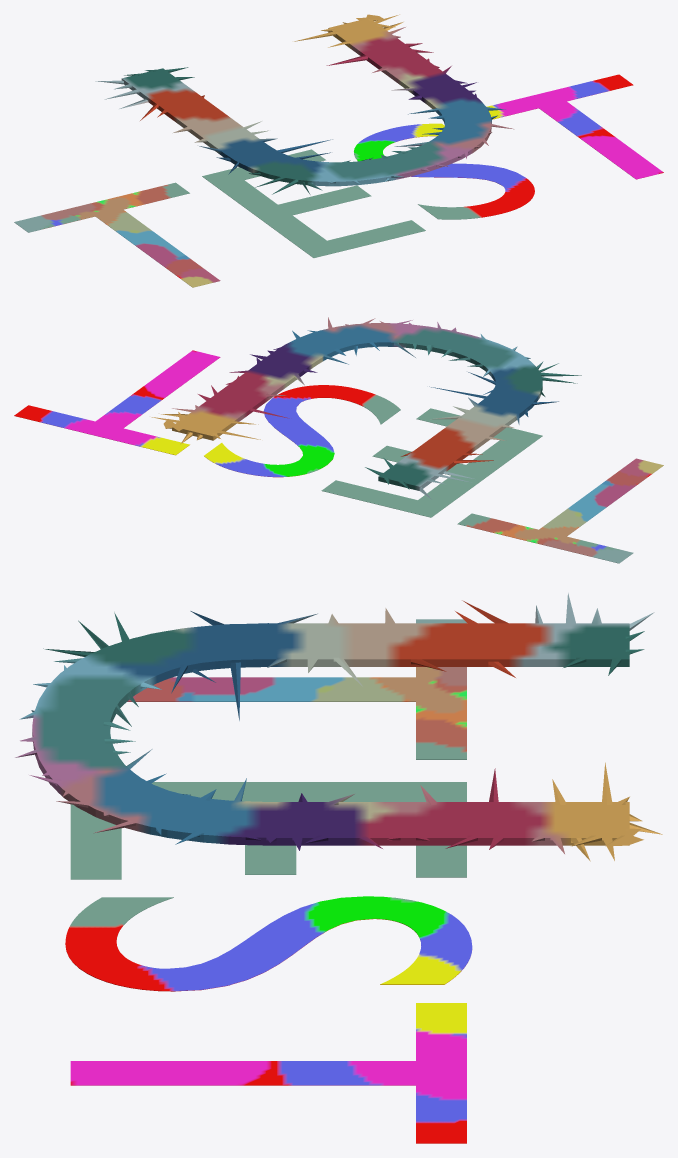
The picture shows the model from 3 angles, top to bottom: view 1: azimuth 30°, elevation 25°; view 2: azimuth 150°, elevation 25°; view 3: azimuth 270°, elevation 25°; orthographic projection. The views are drawn at different scales.
Visible parts, largest first — view 1: テキスト.002, テキスト.007; view 2: テキスト.002, テキスト.007; view 3: テキスト.007, テキスト.002.
Part boxes in pixels (left/top/right/bottom): テキスト.002: left=14, top=74, right=663, bottom=287; テキスト.007: left=95, top=14, right=514, bottom=194; テキスト.002: left=14, top=350, right=663, bottom=563; テキスト.007: left=151, top=317, right=581, bottom=499; テキスト.007: left=15, top=593, right=662, bottom=861; テキスト.002: left=65, top=619, right=472, bottom=1143.
Bounding box in the file's own units: 24.77 × 2.93 × 12.99.
